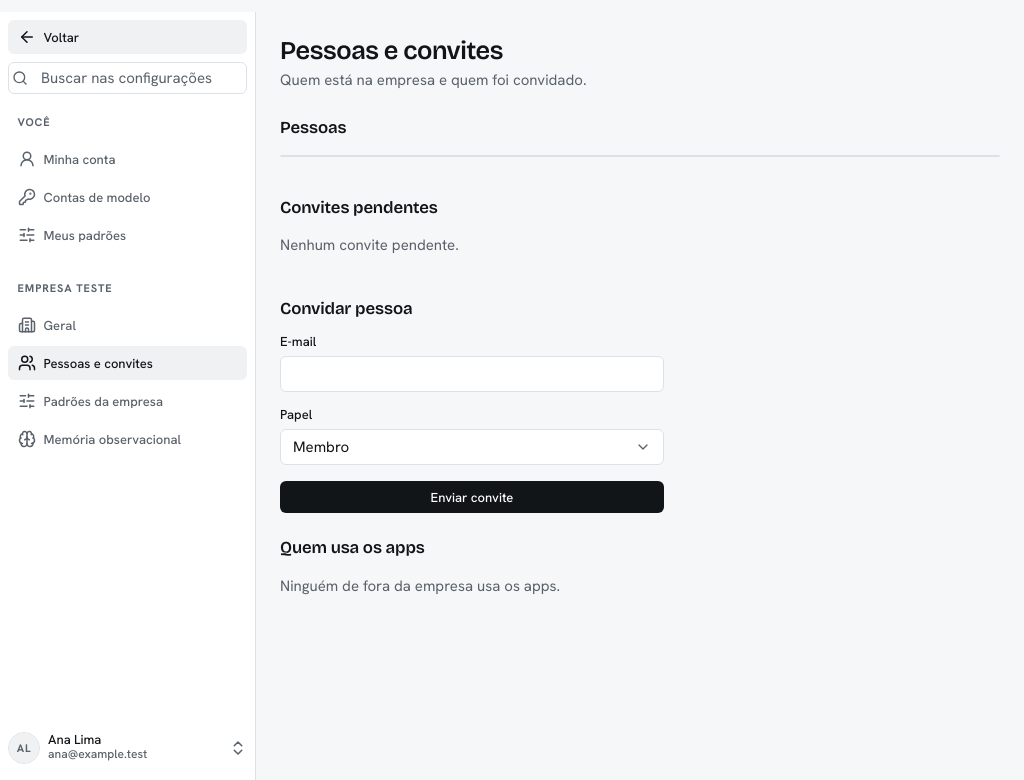
Test: o administrador só vê Administrador e Membro, e começa no menos privilegiado
Click the dropdown named "Papel": {"x": 321, "y": 447} [280,429,664,465]
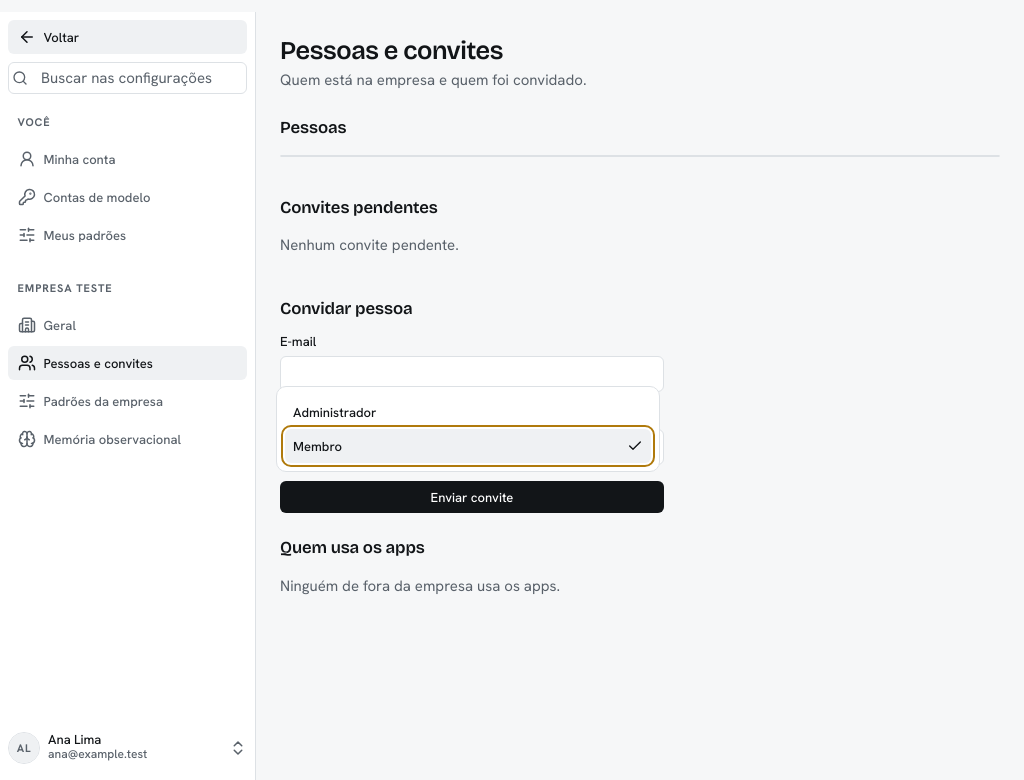
Expected: the options read "Administrador", "Membro", in this order, [293,404,376,421]; [285,429,651,463]
